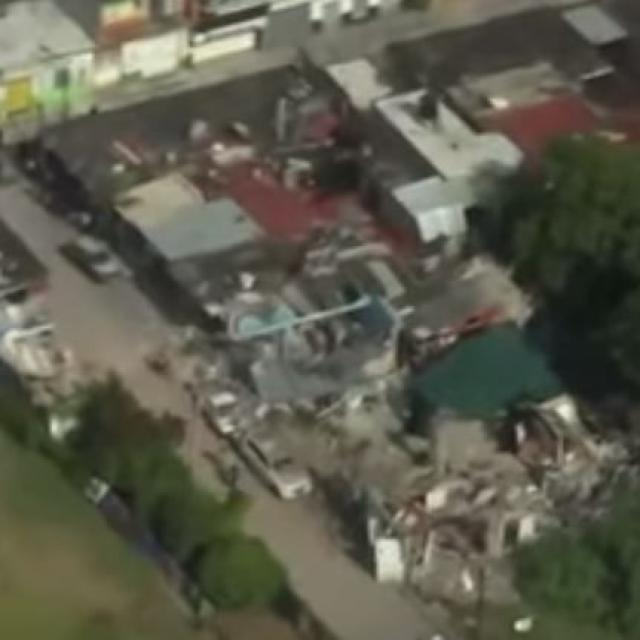collapsed_building: (322, 340, 602, 567), (180, 236, 374, 474)
